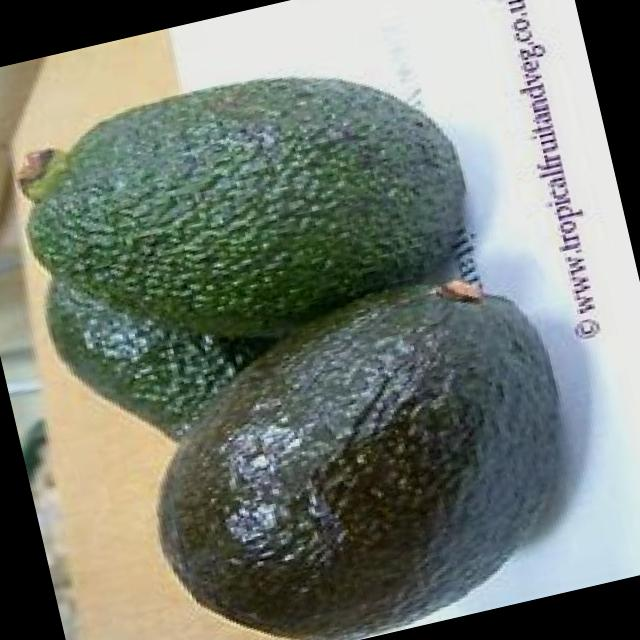avocado: (110, 259, 608, 640), (7, 30, 496, 388)
